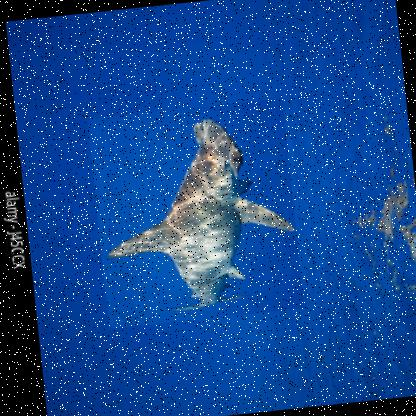hammerhead_Shark: (86, 97, 304, 328)
